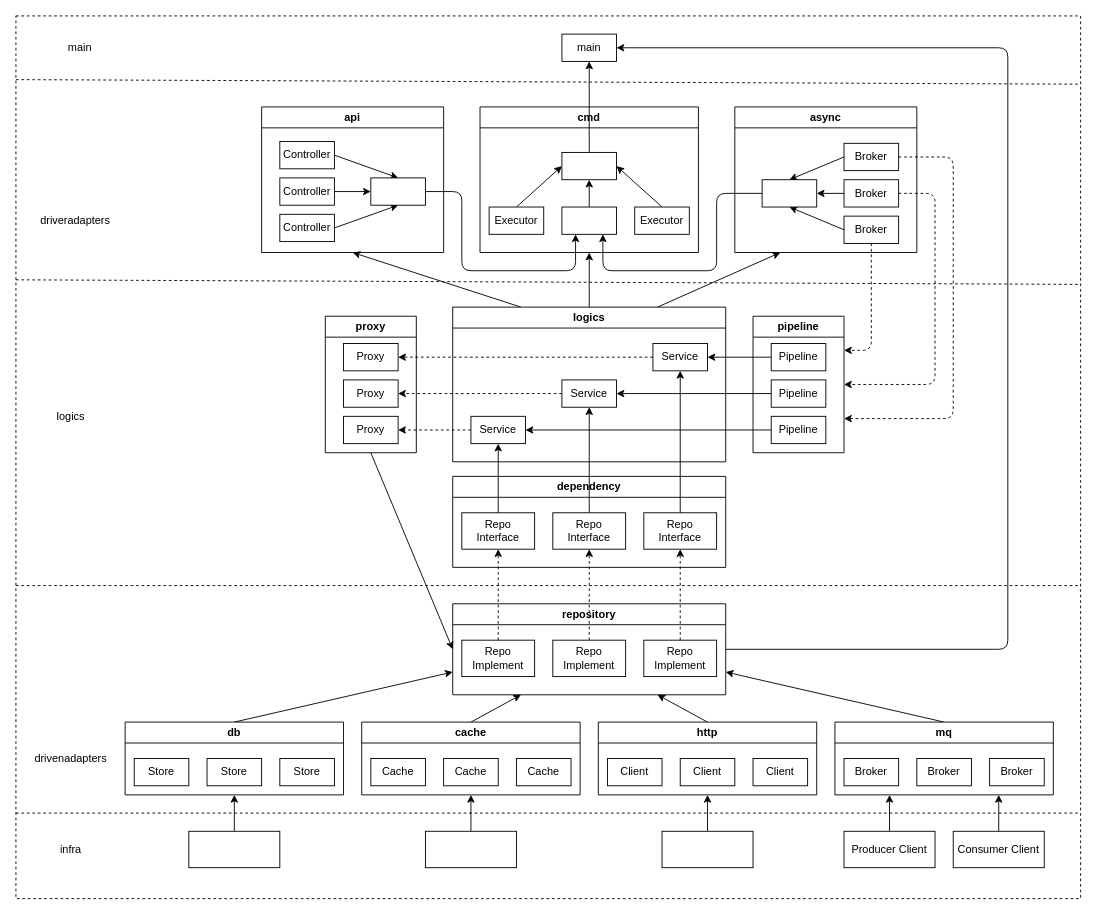
Image size: 1097x915. Some labels were removed from this diagram. The centre of each missing label's shape, as x and y in pixels:
"Cache Client" goes at pixel 470 849.
"DB Client" goes at pixel 234 849.
"HTTP Client" goes at pixel 707 849.
"Message Gateway" goes at pixel 789 193.
"Processor" goes at pixel 589 166.
"Router" goes at pixel 397 191.
"Server Executor" goes at pixel 589 220.
